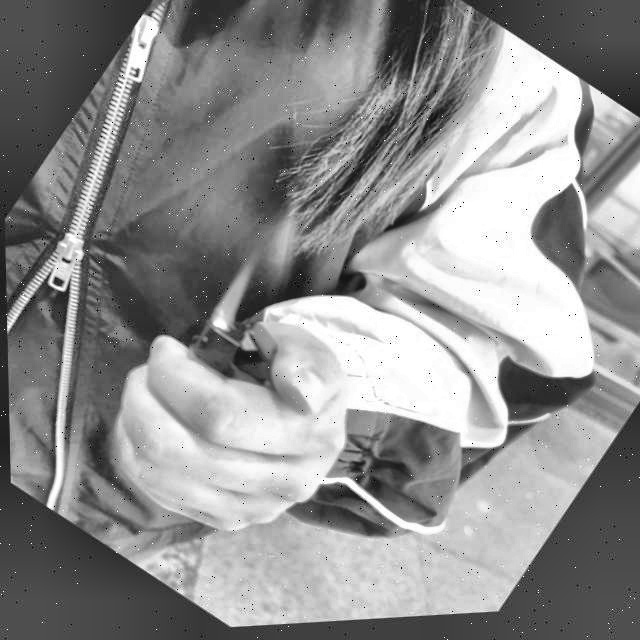Fire: (204, 258, 268, 336)
